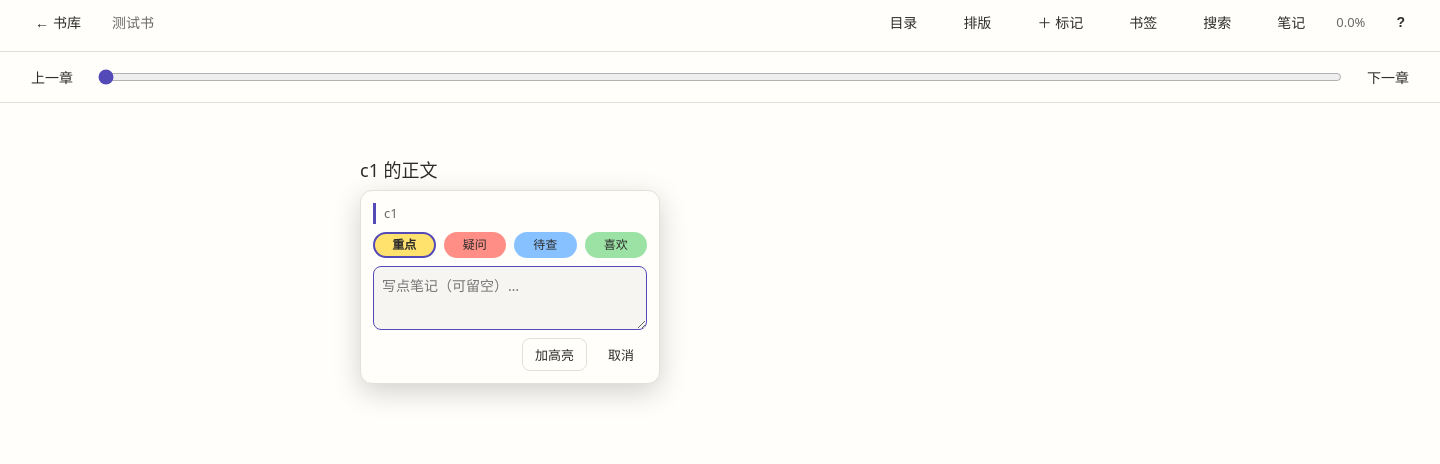
阅读器 › 框选后点取消：不留下任何高亮
The image size is (1440, 464).
Expected: the text "c1 的正文" is shown, left=360, top=158, right=438, bottom=182
Click the button "取消" at x=621, y=354, box left=595, top=338, right=647, bottom=371
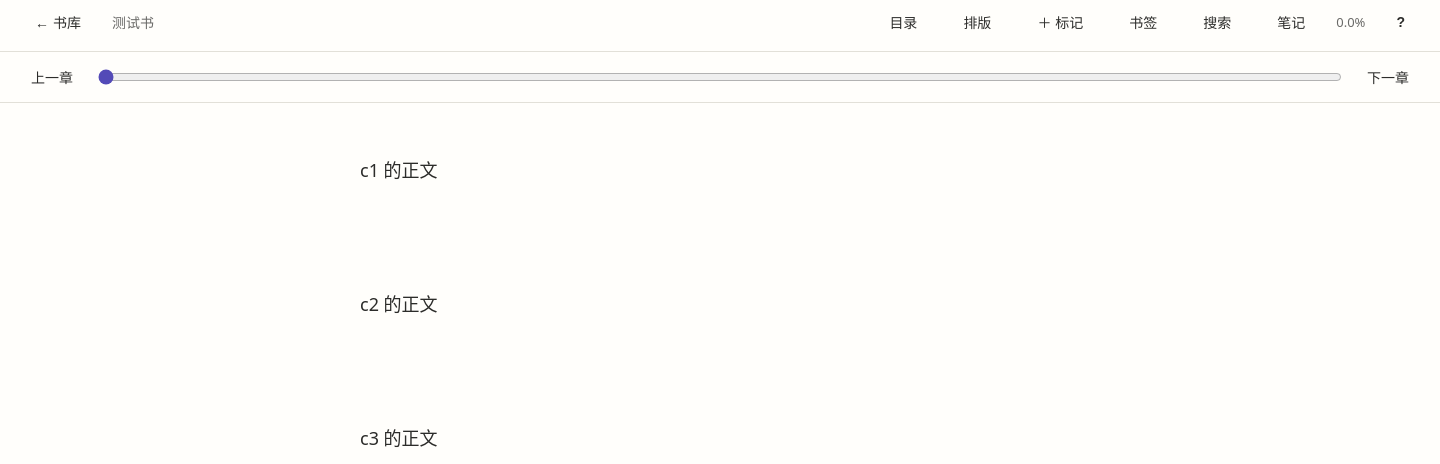
Result: the button "取消" is gone
